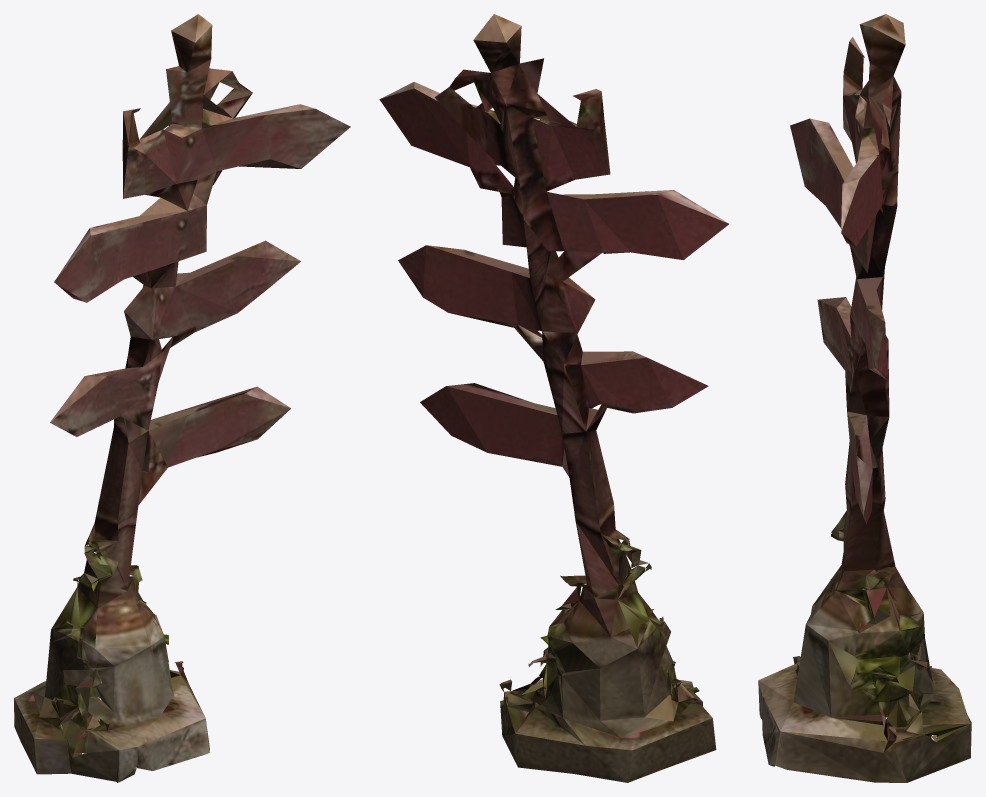
Rendered from park_direction_sign_1117.glb.
The picture shows the model from 3 angles, left to right: view 1: azimuth 30°, elevation 25°; view 2: azimuth 150°, elevation 25°; view 3: azimuth 270°, elevation 25°; orthographic projection. The views are drawn at different scales.
Parts seen in each view (by area): view 1: world; view 2: world; view 3: world.
Part boxes in pixels (x1,y1,x2,y2): world: (14, 14, 350, 782); world: (379, 14, 728, 782); world: (758, 14, 971, 782).
Size of the model in its own units: 0.4842 by 1 by 0.2483.
1 material, 1 textured.
